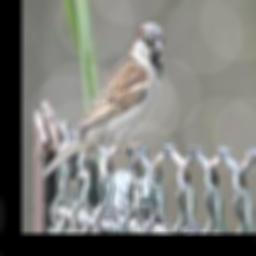Sparrow: (40, 21, 165, 183)
